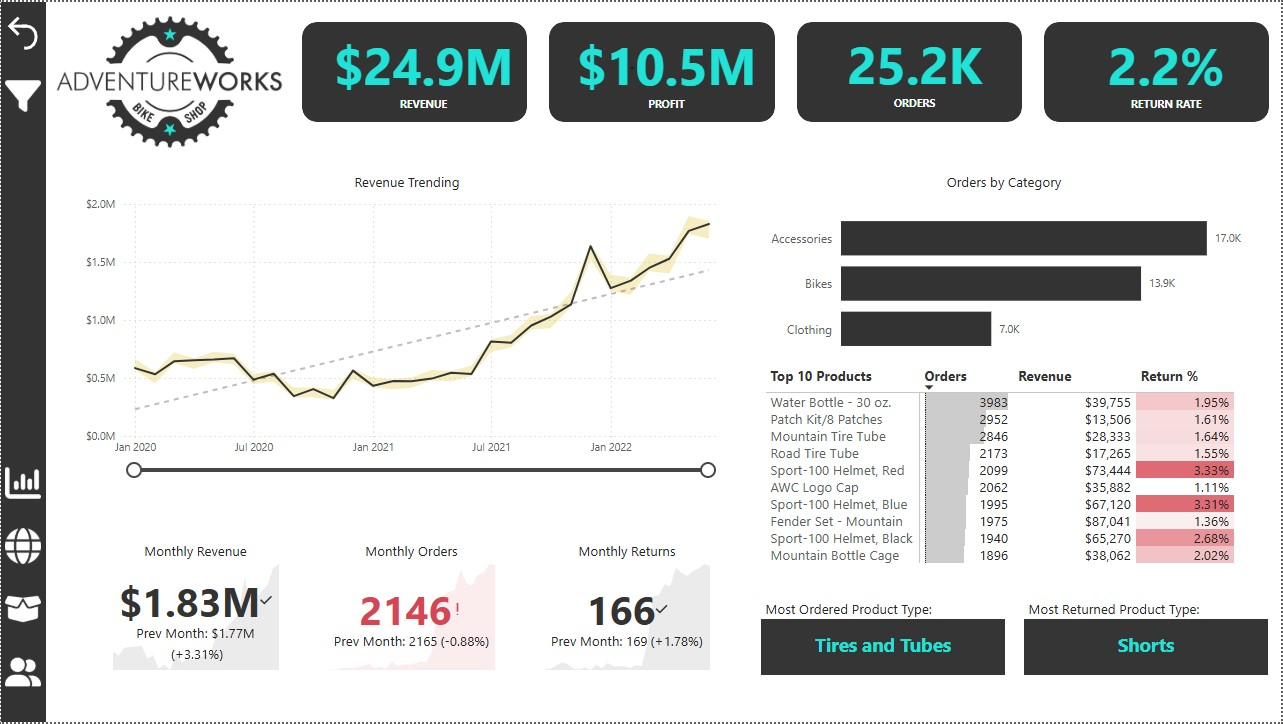

The page's visual inventory and layout, read from the dashboard file:
{"tool":"powerbi","page":{"name":"Exec Dashboard","canvas":[1280,720],"ordinal":0},"visuals":[{"type":"image","title":"AW Logo","box":[22.8,6.3,292.4,148.1],"z":0},{"type":"card","fields":{"Values":["Measure Table.Return Rate"]},"box":[1075.1,6.9,179.7,124.1],"z":0,"group":"g3"},{"type":"group","id":"g1","title":"KPI Backgrounds","box":[300.8,20,967.1,100],"z":0,"group":"g5"},{"type":"shape","box":[548.1,20,225.3,100],"z":0,"group":"g1"},{"type":"actionButton","box":[0,451.4,44.4,59.7],"z":0,"group":"g7"},{"type":"group","id":"g2","title":"Most ordered product","box":[760,592.9,244.3,80],"z":0,"group":"g6"},{"type":"textbox","box":[1022.9,592.9,198.6,34.3],"z":0,"group":"g4"},{"type":"card","fields":{"Values":["Min(Product Subcategories Lookup.SubcategoryName)"]},"box":[760,617.2,244.3,55.7],"z":0,"group":"g2"},{"type":"shape","title":"Left Nav Background","box":[0,0,45,720.3],"z":1000},{"type":"group","id":"g3","title":"KPI Value","box":[270,5.7,984.8,125.3],"z":1000,"group":"g5"},{"type":"card","fields":{"Values":["Measure Table.Total Profit"]},"box":[512.5,7,305.1,124.1],"z":1000,"group":"g3"},{"type":"shape","box":[795.3,20,225.3,100],"z":1000,"group":"g1"},{"type":"textbox","box":[760,592.9,198.6,34.3],"z":1000,"group":"g2"},{"type":"group","id":"g4","title":"Most Returned product","box":[1022.9,592.9,244.3,80],"z":1000,"group":"g6"},{"type":"card","fields":{"Values":["Min(Product Subcategories Lookup.SubcategoryName)"]},"box":[1022.9,617.2,244.3,55.7],"z":1000,"group":"g4"},{"type":"actionButton","box":[0,640.3,44.4,59.7],"z":1000,"group":"g7"},{"type":"card","fields":{"Values":["Measure Table.Total Orders"]},"box":[760.6,5.7,305.1,124.1],"z":2000,"group":"g3"},{"type":"shape","box":[1042.6,20,225.3,100],"z":2000,"group":"g1"},{"type":"lineChart","title":"Revenue Trending","fields":{"Y":["Measure Table.Total Revenue"],"Category":["Calendar Lookup.Start of Month"]},"box":[78.6,171.4,655.7,307.1],"z":2000},{"type":"actionButton","box":[0,577.3,44.4,59.7],"z":2000,"group":"g7"},{"type":"group","id":"g5","title":"KPIs","box":[270,5.7,997.1,125.7],"z":3000},{"type":"card","fields":{"Values":["Measure Table.Total Revenue"]},"box":[270,6.9,305.1,124.1],"z":3000,"group":"g3"},{"type":"shape","box":[300.8,20,225.3,100],"z":3000,"group":"g1"},{"type":"actionButton","box":[0,514.4,44.4,59.7],"z":3000,"group":"g7"},{"type":"kpi","title":"Monthly Revenue","fields":{"Indicator":["Measure Table.Total Revenue"],"TrendLine":["Calendar Lookup.Start of Month"],"Goal":["Measure Table.Previous Month Revenue"]},"box":[107.1,540,175.7,132.9],"z":4000},{"type":"kpi","title":"Monthly Orders","fields":{"TrendLine":["Calendar Lookup.Start of Month"],"Indicator":["Measure Table.Total Orders"],"Goal":["Measure Table.Previous Month Orders"]},"box":[322.9,540,175.7,132.9],"z":5000},{"type":"kpi","title":"Monthly Returns","fields":{"TrendLine":["Calendar Lookup.Start of Month"],"Indicator":["Measure Table.Total Returns"],"Goal":["Measure Table.Previous Month Returns"]},"box":[538.6,540,175.7,132.9],"z":6000},{"type":"clusteredBarChart","title":"Orders by Category","fields":{"Category":["Product Categories Lookup.CategoryName"],"Y":["Measure Table.Total Orders"]},"box":[760,171.4,487.1,197.1],"z":7000},{"type":"pivotTable","fields":{"Rows":["Product Lookup.ProductName"],"Values":["Measure Table.Total Orders","Measure Table.Total Revenue","Measure Table.Return Rate"]},"box":[760,360,495.7,211.4],"z":8000},{"type":"group","id":"g6","title":"Cards","box":[760,592.9,507.1,80],"z":9000},{"type":"actionButton","box":[0,5.6,44.4,50],"z":10000},{"type":"group","id":"g7","title":"Navigation Buttons","box":[0,451.4,44.4,248.6],"z":11000},{"type":"actionButton","box":[0,69.4,44.4,50],"z":12000}]}

Visuals, with their boxes on the page's 1280x720 design canvas (x1, y1, x2, y2). These are canvas units, not pixel positions in the 1283x724 screenshot, which may show the page scaled, cropped or inside an application window:
"AW Logo" image: bbox=[23, 6, 315, 154]
card - Measure Table.Return Rate: bbox=[1075, 7, 1255, 131]
"KPI Backgrounds" group: bbox=[301, 20, 1268, 120]
shape: bbox=[548, 20, 773, 120]
actionButton: bbox=[0, 451, 44, 511]
"Most ordered product" group: bbox=[760, 593, 1004, 673]
textbox: bbox=[1023, 593, 1222, 627]
card - Min(Product Subcategories Lookup.SubcategoryName): bbox=[760, 617, 1004, 673]
"Left Nav Background" shape: bbox=[0, 0, 45, 720]
"KPI Value" group: bbox=[270, 6, 1255, 131]
card - Measure Table.Total Profit: bbox=[512, 7, 818, 131]
shape: bbox=[795, 20, 1021, 120]
textbox: bbox=[760, 593, 959, 627]
"Most Returned product" group: bbox=[1023, 593, 1267, 673]
card - Min(Product Subcategories Lookup.SubcategoryName): bbox=[1023, 617, 1267, 673]
actionButton: bbox=[0, 640, 44, 700]
card - Measure Table.Total Orders: bbox=[761, 6, 1066, 130]
shape: bbox=[1043, 20, 1268, 120]
"Revenue Trending" lineChart: bbox=[79, 171, 734, 478]
actionButton: bbox=[0, 577, 44, 637]
"KPIs" group: bbox=[270, 6, 1267, 131]
card - Measure Table.Total Revenue: bbox=[270, 7, 575, 131]
shape: bbox=[301, 20, 526, 120]
actionButton: bbox=[0, 514, 44, 574]
"Monthly Revenue" kpi: bbox=[107, 540, 283, 673]
"Monthly Orders" kpi: bbox=[323, 540, 499, 673]
"Monthly Returns" kpi: bbox=[539, 540, 714, 673]
"Orders by Category" clusteredBarChart: bbox=[760, 171, 1247, 368]
pivotTable - Product Lookup.ProductName x Measure Table.Total Orders: bbox=[760, 360, 1256, 571]
"Cards" group: bbox=[760, 593, 1267, 673]
actionButton: bbox=[0, 6, 44, 56]
"Navigation Buttons" group: bbox=[0, 451, 44, 700]
actionButton: bbox=[0, 69, 44, 119]
